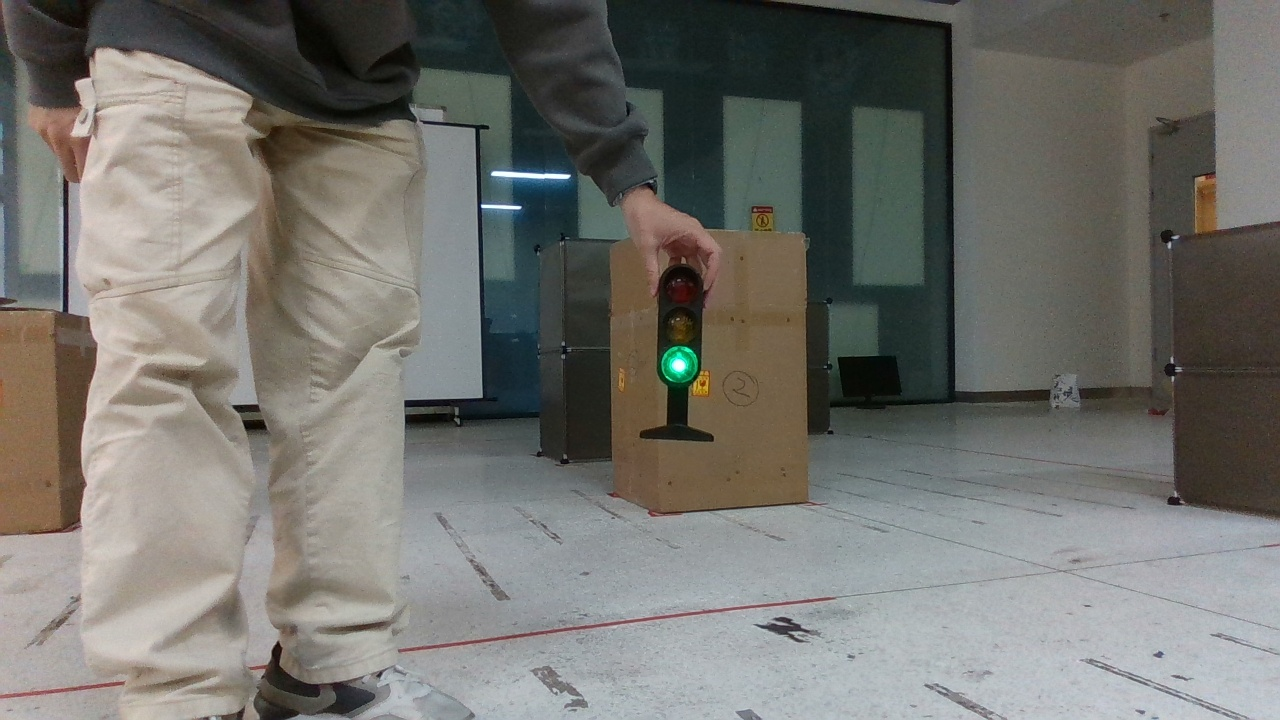green_light: (633, 262, 737, 445)
